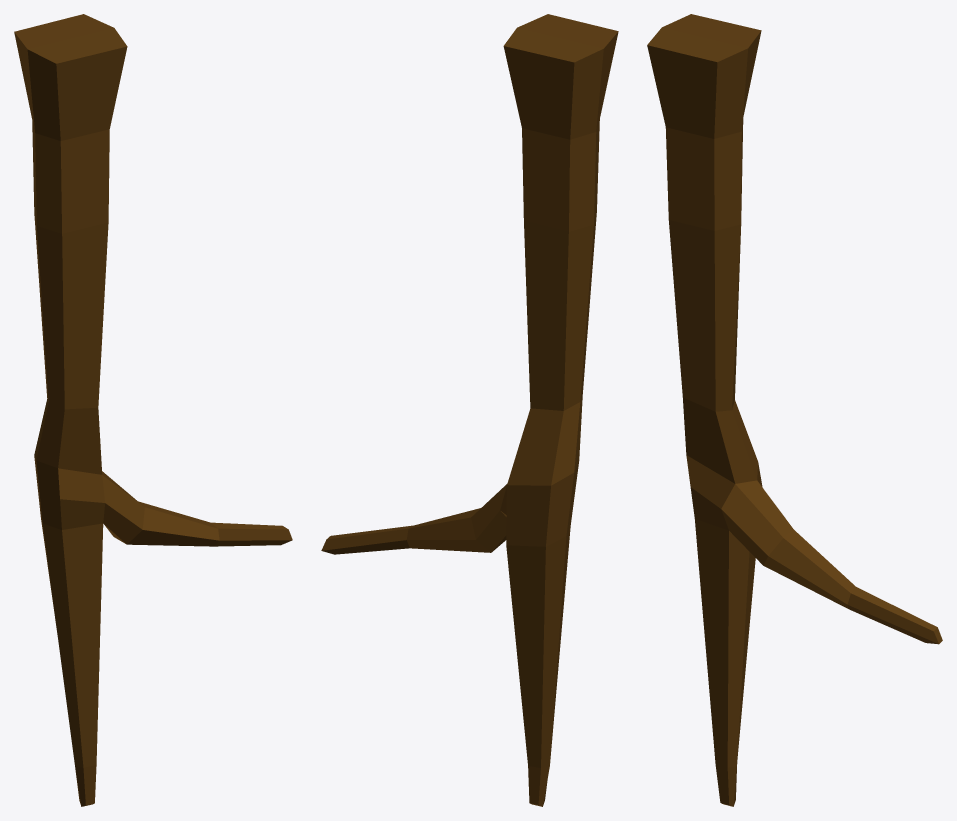
3 renders of one model, left to right at view 1: azimuth 30°, elevation 25°; view 2: azimuth 150°, elevation 25°; view 3: azimuth 330°, elevation 25°, orthographic.
Visible parts, largest first — view 1: Cube.014; view 2: Cube.014; view 3: Cube.014.
Boxes of the visible parts, left/top/right/bottom form: Cube.014: left=14, top=14, right=292, bottom=806; Cube.014: left=321, top=14, right=618, bottom=806; Cube.014: left=647, top=14, right=942, bottom=806.
Size of the model in its own units: 74.5 by 202 by 21.81.
